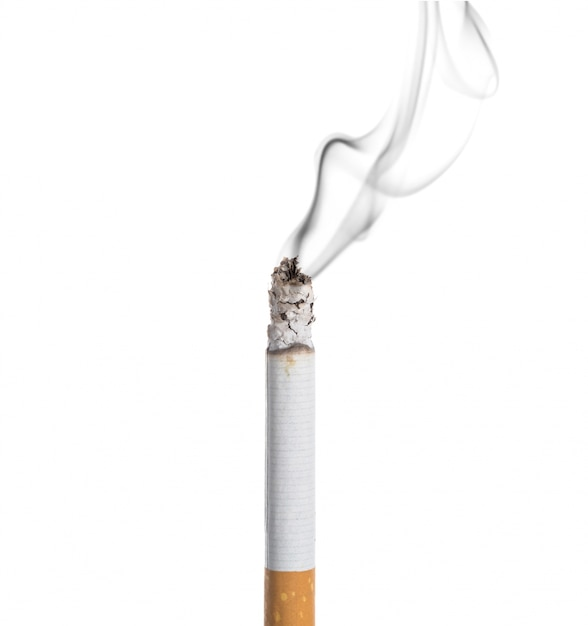cigarette: (263, 249, 318, 626)
